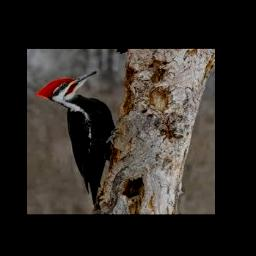Woodpecker: (36, 70, 116, 207)
